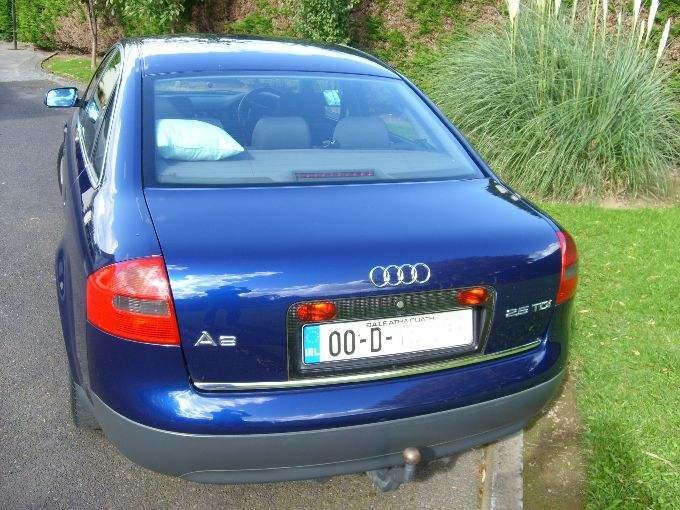audi: (359, 251, 440, 291)
